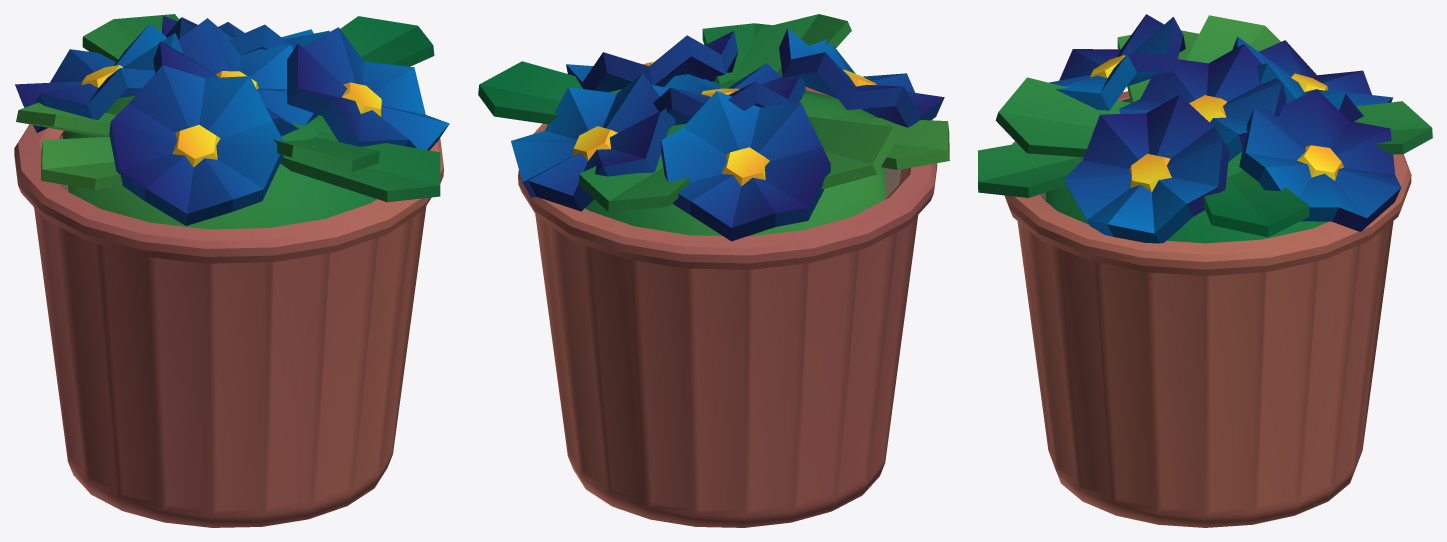
The model's file is OrnateFlowerPotBlue.fbx.
3 views of the same model, side by side, from view 1: azimuth 30°, elevation 25°; view 2: azimuth 150°, elevation 25°; view 3: azimuth 270°, elevation 25° (orthographic). The views are drawn at different scales.
Parts seen in each view (by area): view 1: OrnateFlowerPotBlue; view 2: OrnateFlowerPotBlue; view 3: OrnateFlowerPotBlue.
Boxes of the visible parts, box(x1,y1,x2,y2) form: OrnateFlowerPotBlue: box(14, 14, 449, 527); OrnateFlowerPotBlue: box(478, 14, 949, 527); OrnateFlowerPotBlue: box(978, 14, 1432, 527).
Size of the model in its own units: 0.3972 by 0.3775 by 0.3809.
